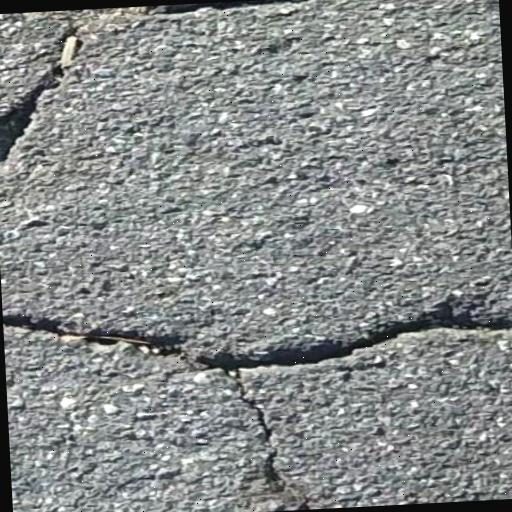spalling: (9, 295, 512, 506), (0, 18, 86, 171)
